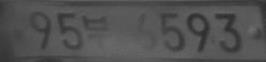3: (213, 11, 242, 53)
5: (159, 11, 185, 52), (56, 11, 84, 49)
6: (132, 11, 157, 50)
9: (186, 11, 210, 52), (27, 9, 51, 49)
부: (83, 13, 111, 49)
